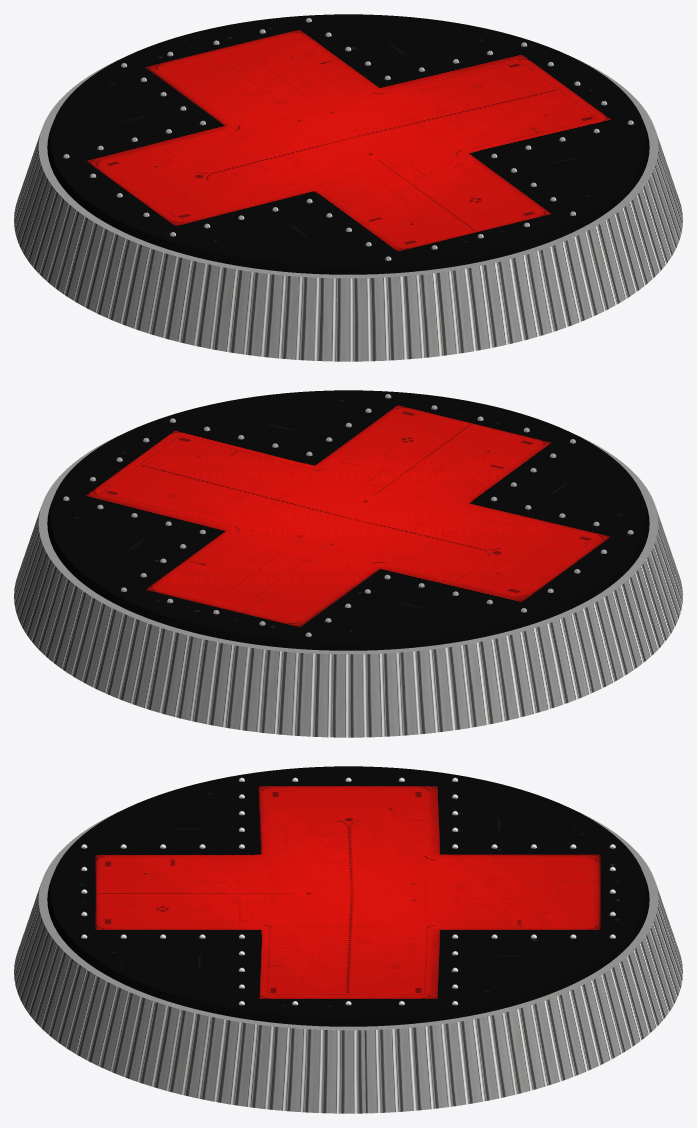
File: Taxi_Gas_Pad.dae
3 renders of one model, top to bottom at view 1: azimuth 30°, elevation 25°; view 2: azimuth 150°, elevation 25°; view 3: azimuth 270°, elevation 25°, orthographic.
Visible parts, largest first — view 1: Taxi_Gas_Pad_Top, Taxi_Gas_Pad_Base; view 2: Taxi_Gas_Pad_Top, Taxi_Gas_Pad_Base; view 3: Taxi_Gas_Pad_Top, Taxi_Gas_Pad_Base.
Part boxes in pixels (left/top/right/bottom): Taxi_Gas_Pad_Top: left=47, top=14, right=649, bottom=274; Taxi_Gas_Pad_Base: left=14, top=18, right=682, bottom=361; Taxi_Gas_Pad_Top: left=47, top=390, right=649, bottom=650; Taxi_Gas_Pad_Base: left=14, top=394, right=682, bottom=737; Taxi_Gas_Pad_Top: left=47, top=766, right=649, bottom=1026; Taxi_Gas_Pad_Base: left=14, top=777, right=682, bottom=1113.
Size of the model in its own units: 1.95 by 0.2658 by 1.95.
